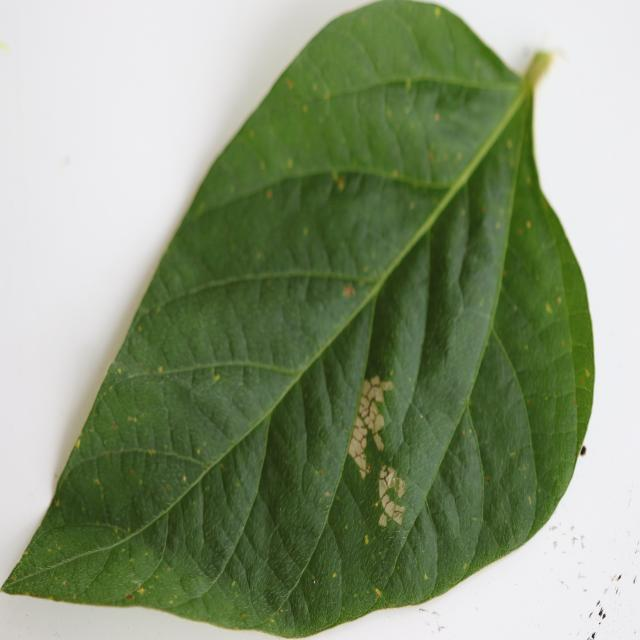Soybean: (0, 0, 596, 640)
downey_mildew: (11, 450, 228, 591), (444, 125, 518, 371), (355, 238, 431, 475), (314, 267, 385, 517), (201, 167, 388, 243), (499, 186, 571, 356), (501, 51, 559, 262), (314, 184, 421, 287), (191, 260, 329, 338), (185, 127, 290, 224), (424, 78, 523, 180), (255, 496, 330, 629), (295, 307, 347, 470), (90, 376, 165, 471), (304, 23, 391, 97), (129, 355, 316, 389), (429, 178, 469, 330), (60, 447, 208, 487), (10, 536, 123, 586), (344, 73, 509, 105), (210, 268, 382, 291), (349, 163, 471, 193), (570, 338, 595, 436)
